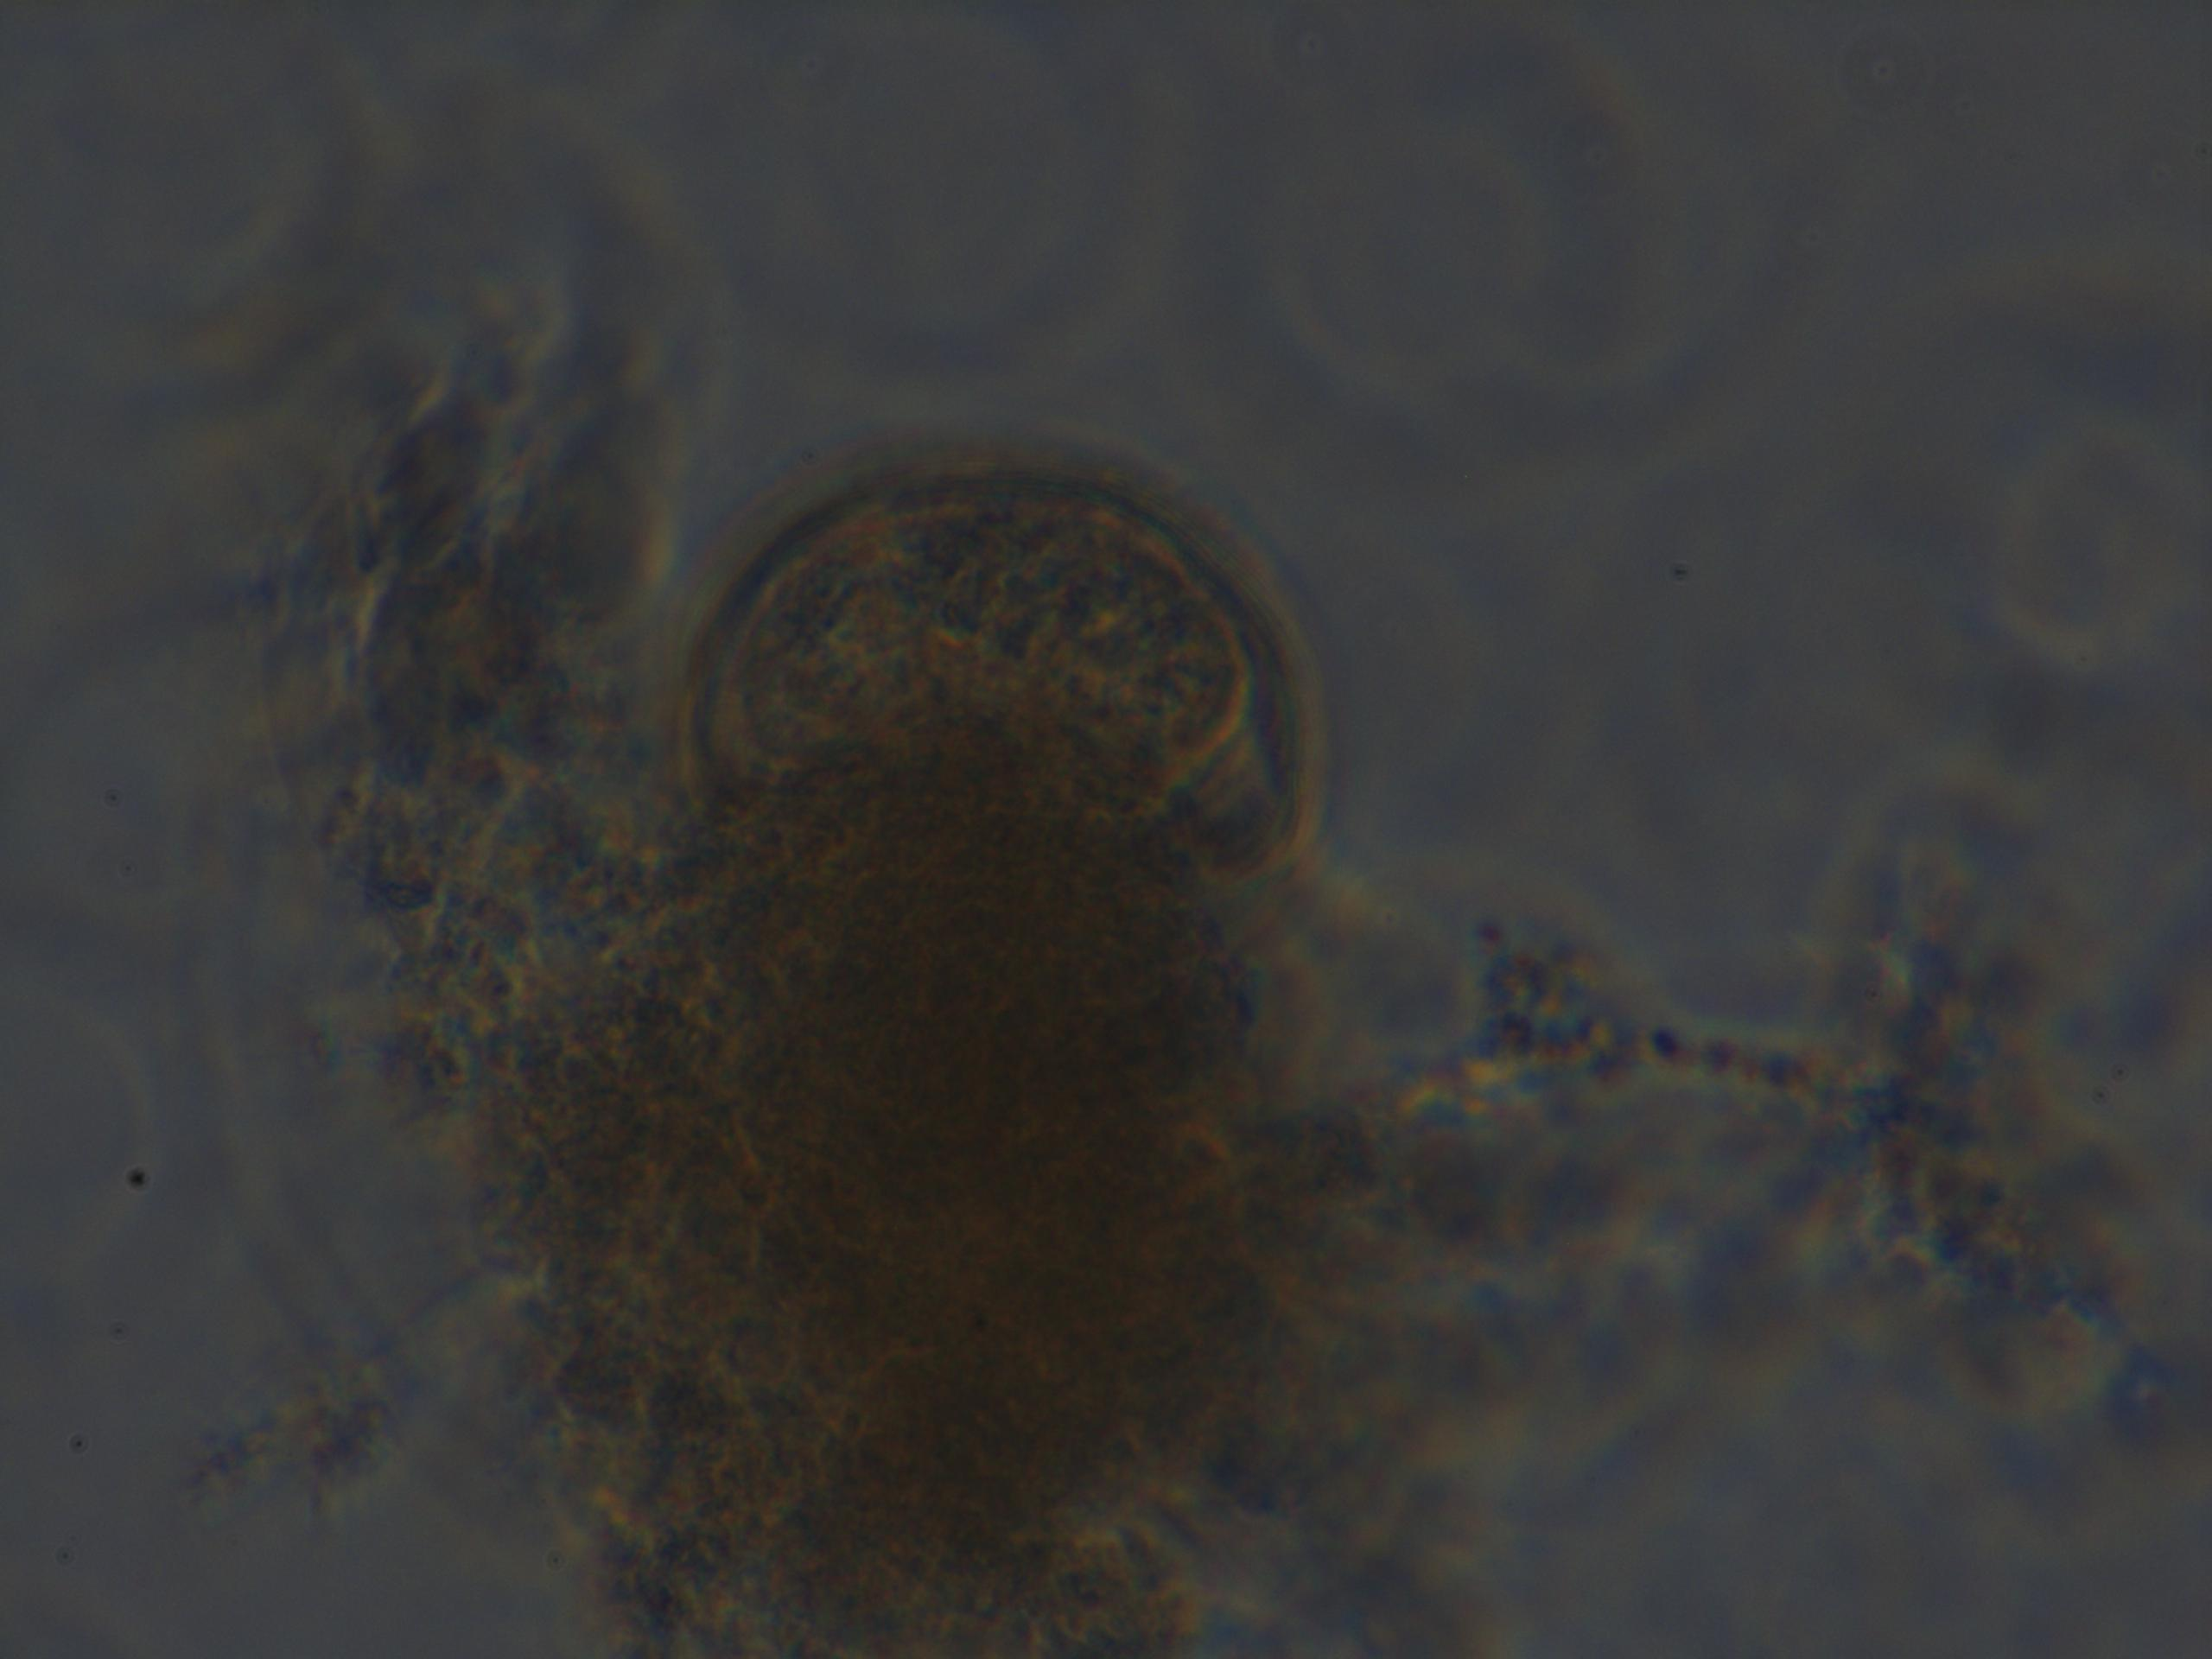protozoa: (681, 434, 1327, 873)
